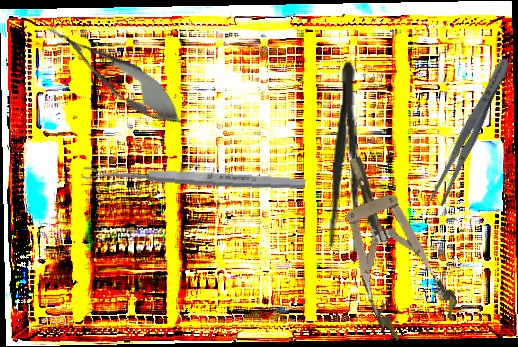Dressing Forceps: (427, 55, 515, 208), (328, 60, 365, 264)
Micro Scissor: (34, 8, 195, 139)
Speculum: (317, 142, 464, 347)
Surgical Spoon: (83, 164, 306, 192)
